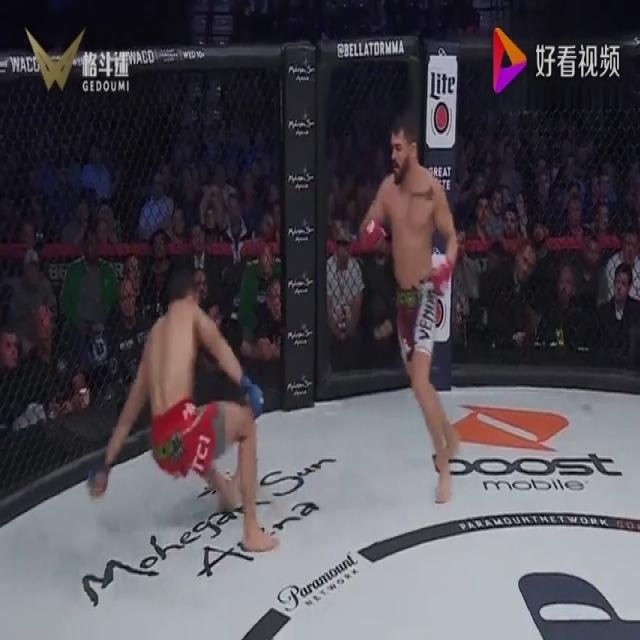fight: (85, 114, 473, 556)
